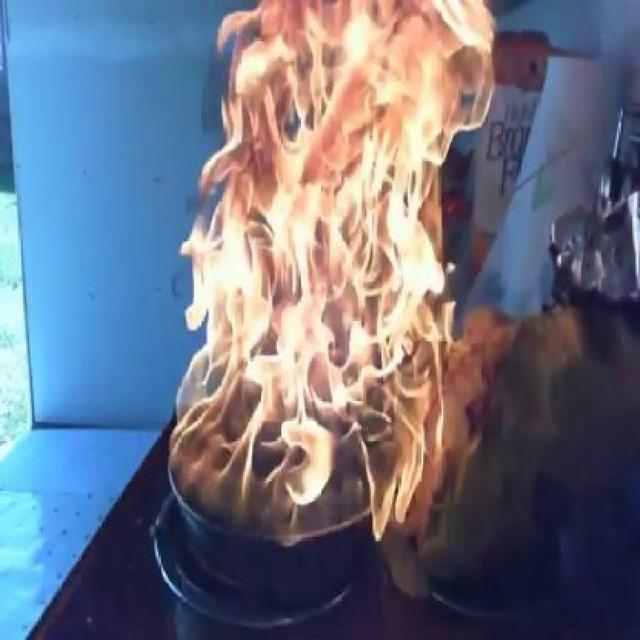fire: (183, 232, 457, 560), (205, 6, 493, 234)
